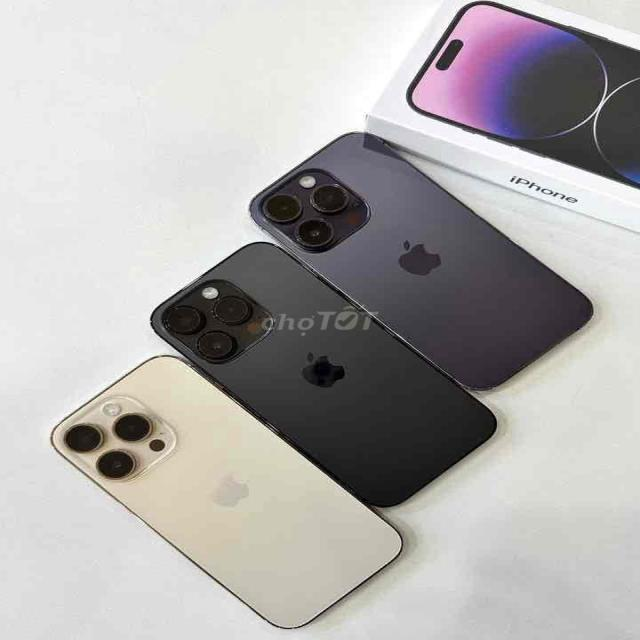gen_14: (50, 353, 410, 640)
